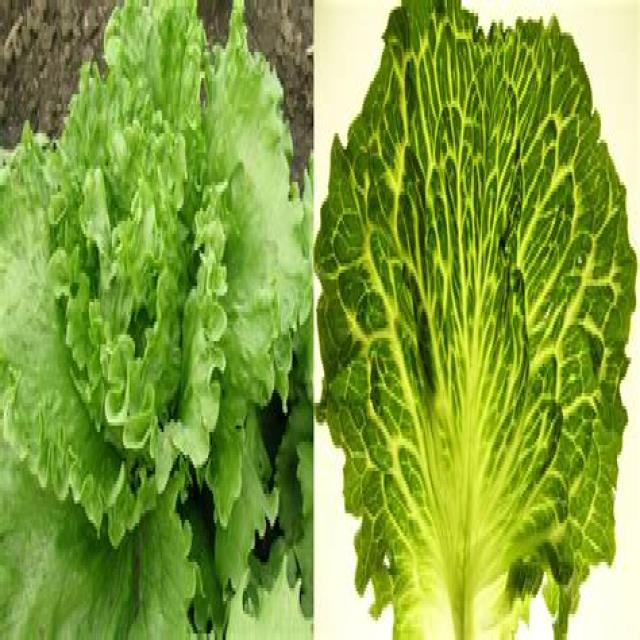Sick Lettuce: (313, 3, 636, 634), (1, 0, 312, 634)
